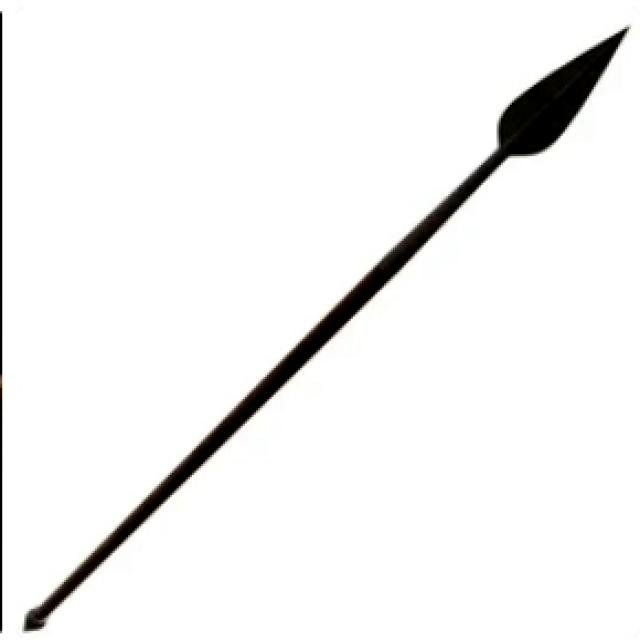spear: (2, 16, 637, 635)
